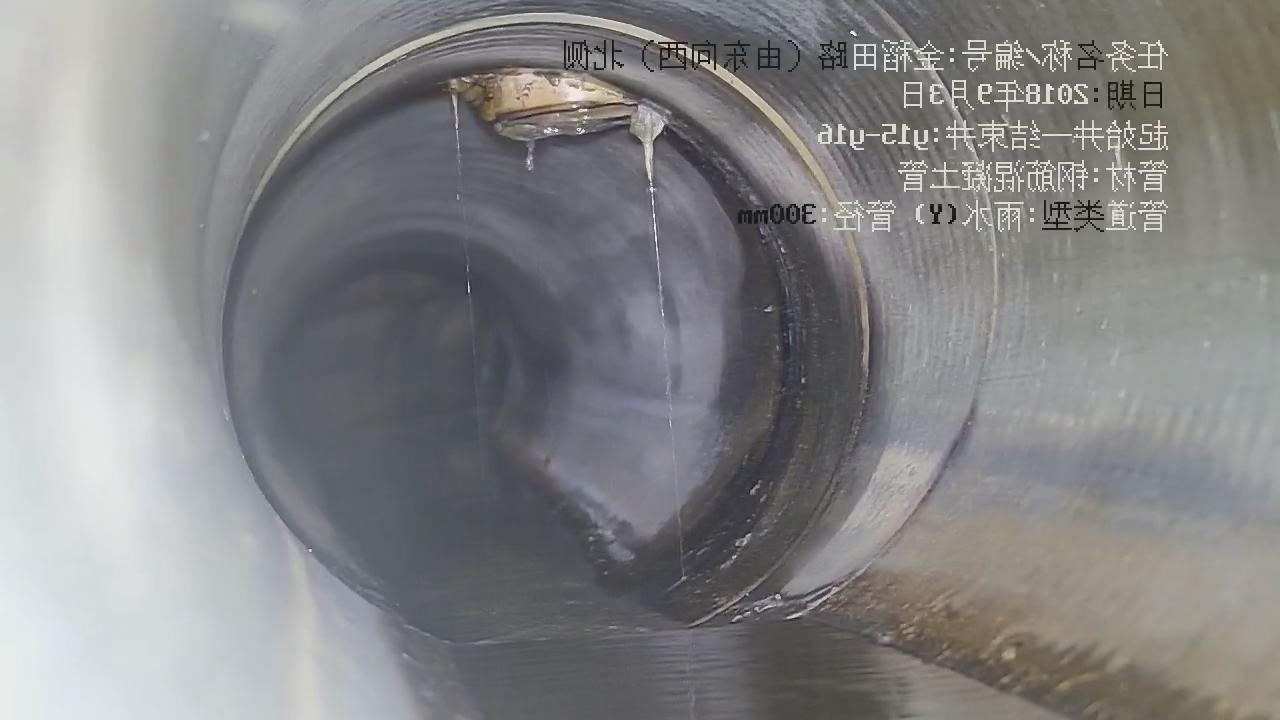CKTJ: (261, 13, 668, 190), (702, 62, 842, 222), (842, 232, 871, 428)
ZGAJ: (452, 68, 668, 156)
